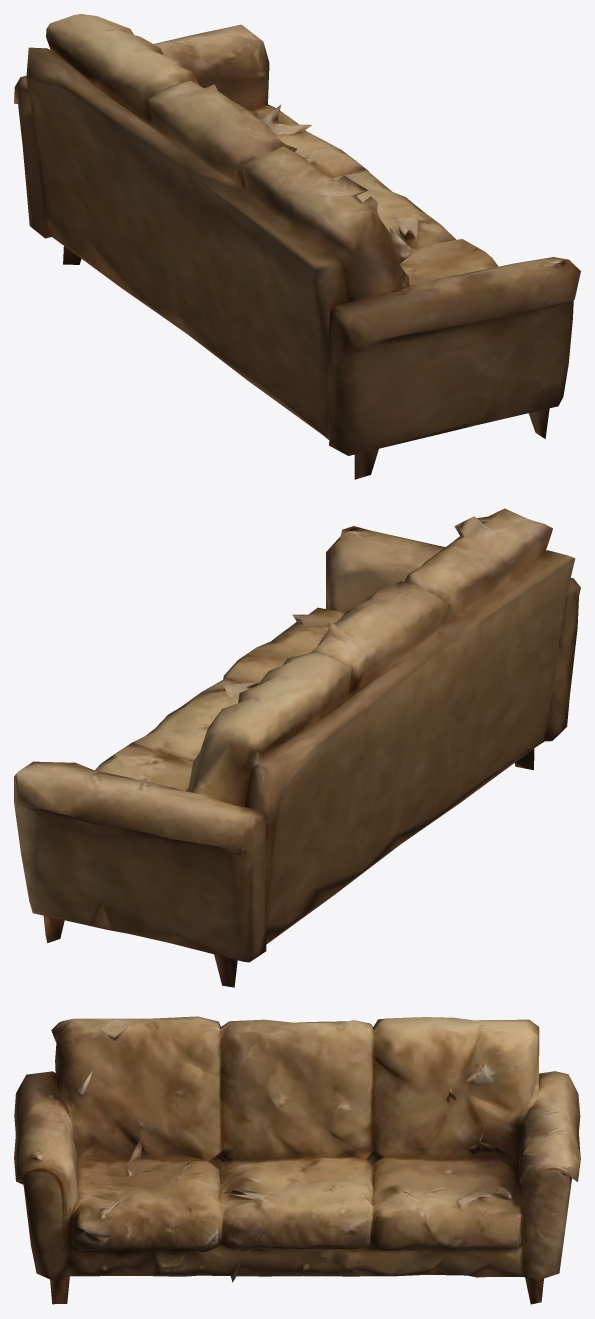
The model's file is e_sofa.glb.
The picture shows the model from 3 angles, top to bottom: view 1: azimuth 30°, elevation 25°; view 2: azimuth 150°, elevation 25°; view 3: azimuth 270°, elevation 25°; orthographic projection. The views are drawn at different scales.
Parts seen in each view (by area): view 1: tripo_node_dcb8abde-8693-416b-9d65-40b495493d86; view 2: tripo_node_dcb8abde-8693-416b-9d65-40b495493d86; view 3: tripo_node_dcb8abde-8693-416b-9d65-40b495493d86.
Part boxes in pixels (<box>): tripo_node_dcb8abde-8693-416b-9d65-40b495493d86: <box>14,14,580,479</box>; tripo_node_dcb8abde-8693-416b-9d65-40b495493d86: <box>14,508,580,987</box>; tripo_node_dcb8abde-8693-416b-9d65-40b495493d86: <box>14,1016,580,1304</box>.
Bounding box in the file's own units: 0.4353 × 0.4233 × 1.
1 material, 1 textured.
